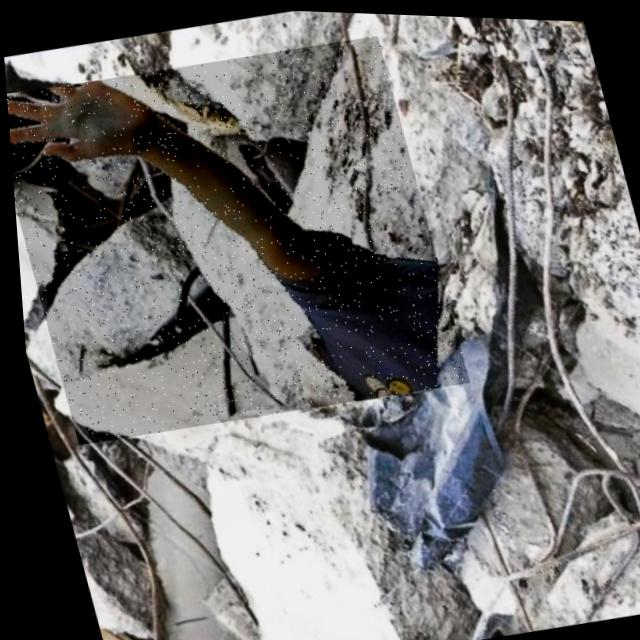Person in Rubble: (1, 20, 469, 455)
